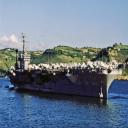Portanaves: (6, 31, 124, 102)
